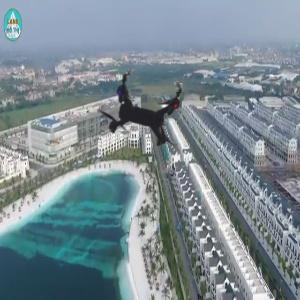drone: (62, 35, 220, 193)
